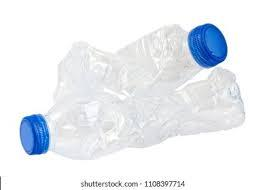plastic: (20, 69, 245, 162), (36, 24, 234, 98)
